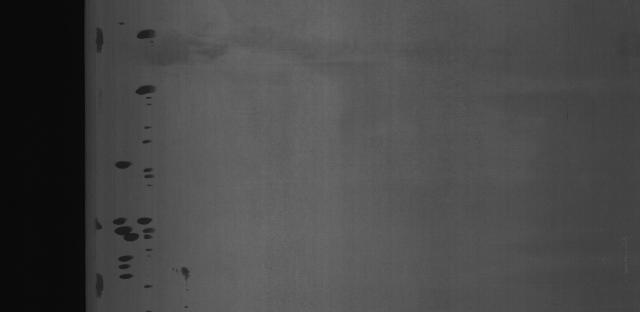oil_spot: (90, 205, 194, 300), (107, 146, 159, 180), (130, 74, 168, 115), (91, 24, 116, 66), (129, 20, 155, 50)
